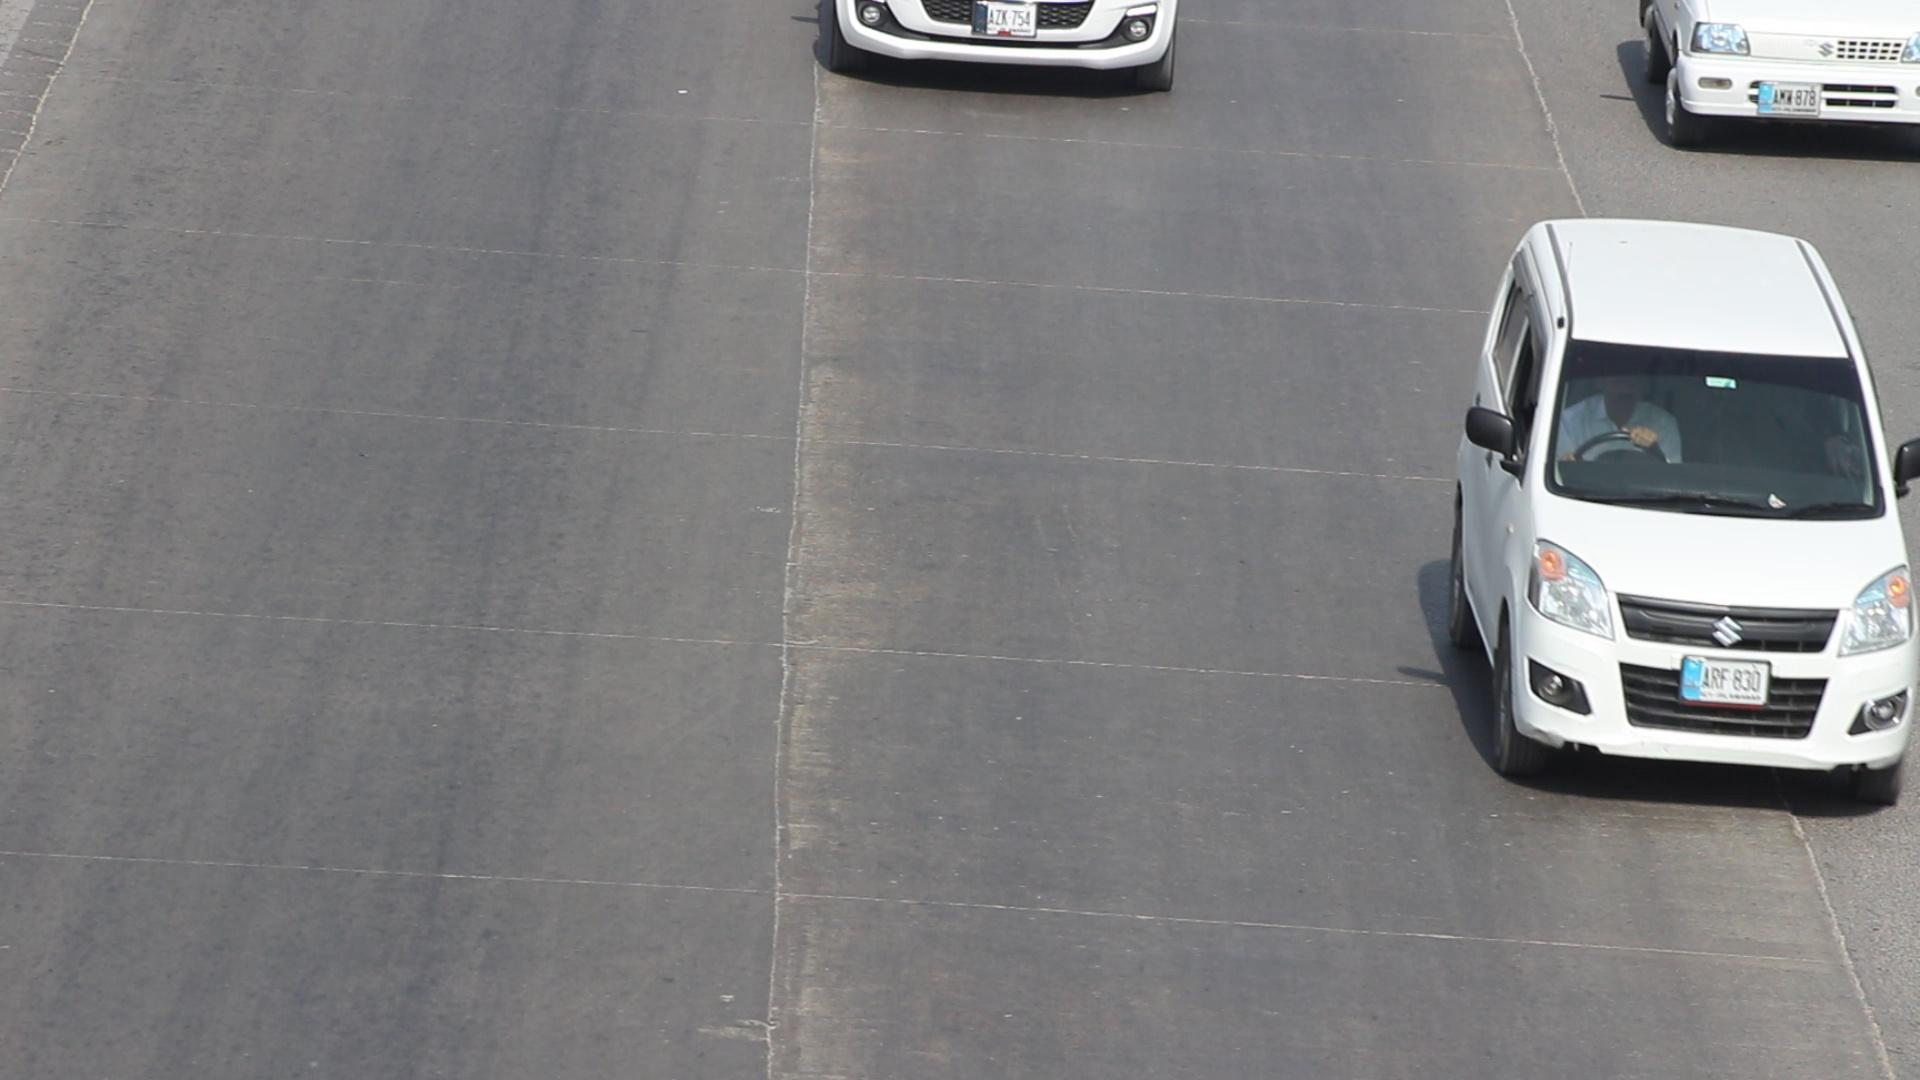windshield: (1538, 334, 1896, 524)
